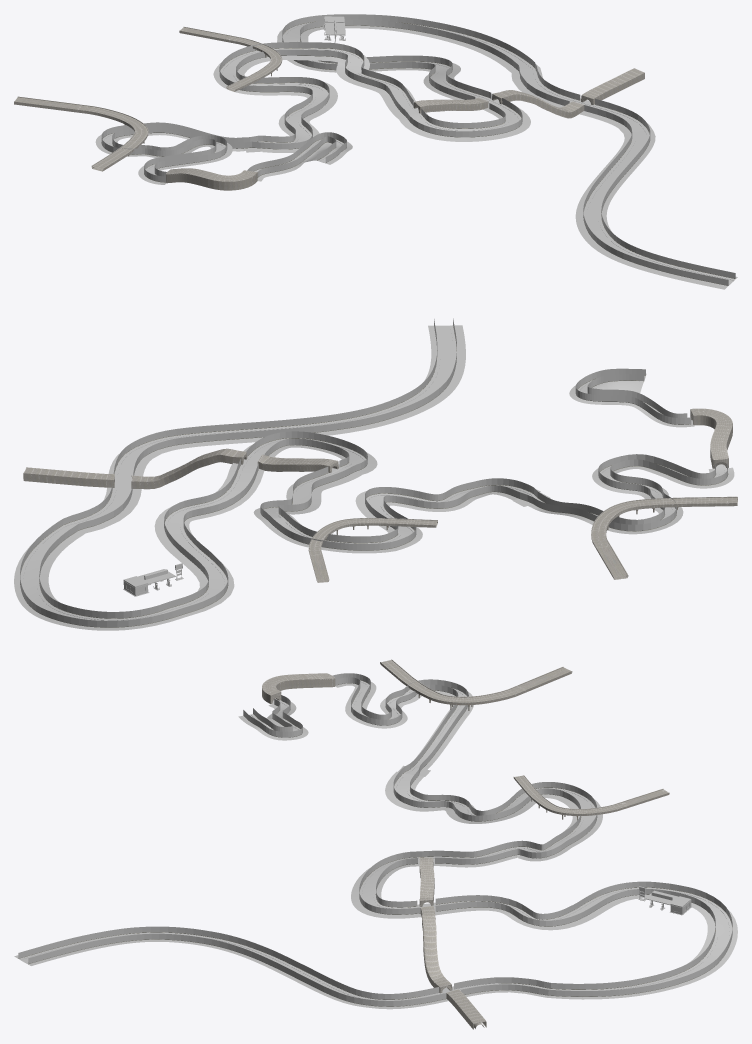
Rendered from city1-1.fbx.
3 views of the same model, one above another, from view 1: azimuth 30°, elevation 25°; view 2: azimuth 150°, elevation 25°; view 3: azimuth 270°, elevation 25° (orthographic). The views are drawn at different scales.
Parts seen in each view (by area): view 1: invisible_wall, buffer_part02, track_part02, tunnel02, polySurface22, buffer_part01, tunnel, bridge02, guard_right_part02, guard_left_part02, gas_station; view 2: invisible_wall, buffer_part02, track_part02, tunnel02, buffer_part01, polySurface22, bridge02, tunnel, guard_left_part02, guard_right_part02, gas_station; view 3: invisible_wall, buffer_part02, track_part02, tunnel02, buffer_part01, polySurface22, bridge02, tunnel, guard_right_part02, track_part01, guard_left_part02, gas_station.
Part boxes in pixels (x1,y1,x2,y2): invisible_wall: (101, 14, 735, 285); buffer_part02: (213, 22, 737, 289); track_part02: (220, 23, 734, 285); tunnel02: (413, 68, 644, 118); polySurface22: (14, 96, 148, 171); buffer_part01: (95, 133, 352, 184); tunnel: (166, 168, 257, 190); bridge02: (179, 26, 282, 91); guard_right_part02: (236, 25, 728, 285); guard_left_part02: (220, 21, 734, 278); gas_station: (323, 16, 345, 42); invisible_wall: (20, 318, 727, 627); buffer_part02: (14, 325, 540, 630); track_part02: (21, 325, 532, 620); tunnel02: (23, 448, 338, 489); buffer_part01: (528, 373, 734, 534); polySurface22: (591, 496, 737, 579); bridge02: (308, 518, 437, 582); tunnel: (690, 408, 732, 468); guard_left_part02: (20, 336, 532, 627); guard_right_part02: (39, 325, 541, 618); gas_station: (123, 563, 183, 596); invisible_wall: (18, 673, 732, 1006); buffer_part02: (14, 771, 737, 1009); track_part02: (19, 773, 731, 1000); tunnel02: (419, 857, 486, 1029); buffer_part01: (238, 680, 473, 769); polySurface22: (380, 659, 572, 705); bridge02: (513, 775, 669, 820); tunnel: (262, 673, 335, 703); guard_right_part02: (18, 768, 715, 999); track_part01: (249, 681, 466, 768); guard_left_part02: (28, 771, 732, 1006); gas_station: (638, 886, 691, 915).
Bounding box in the file's own units: 2514 × 477 × 2711.
